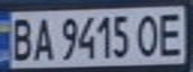1: (93, 12, 115, 60)
4: (75, 12, 96, 60)
5: (109, 11, 136, 58)
9: (54, 14, 78, 61)
A: (30, 14, 57, 62)
B: (6, 15, 36, 62)
E: (154, 9, 190, 57)
O: (133, 10, 163, 57)
